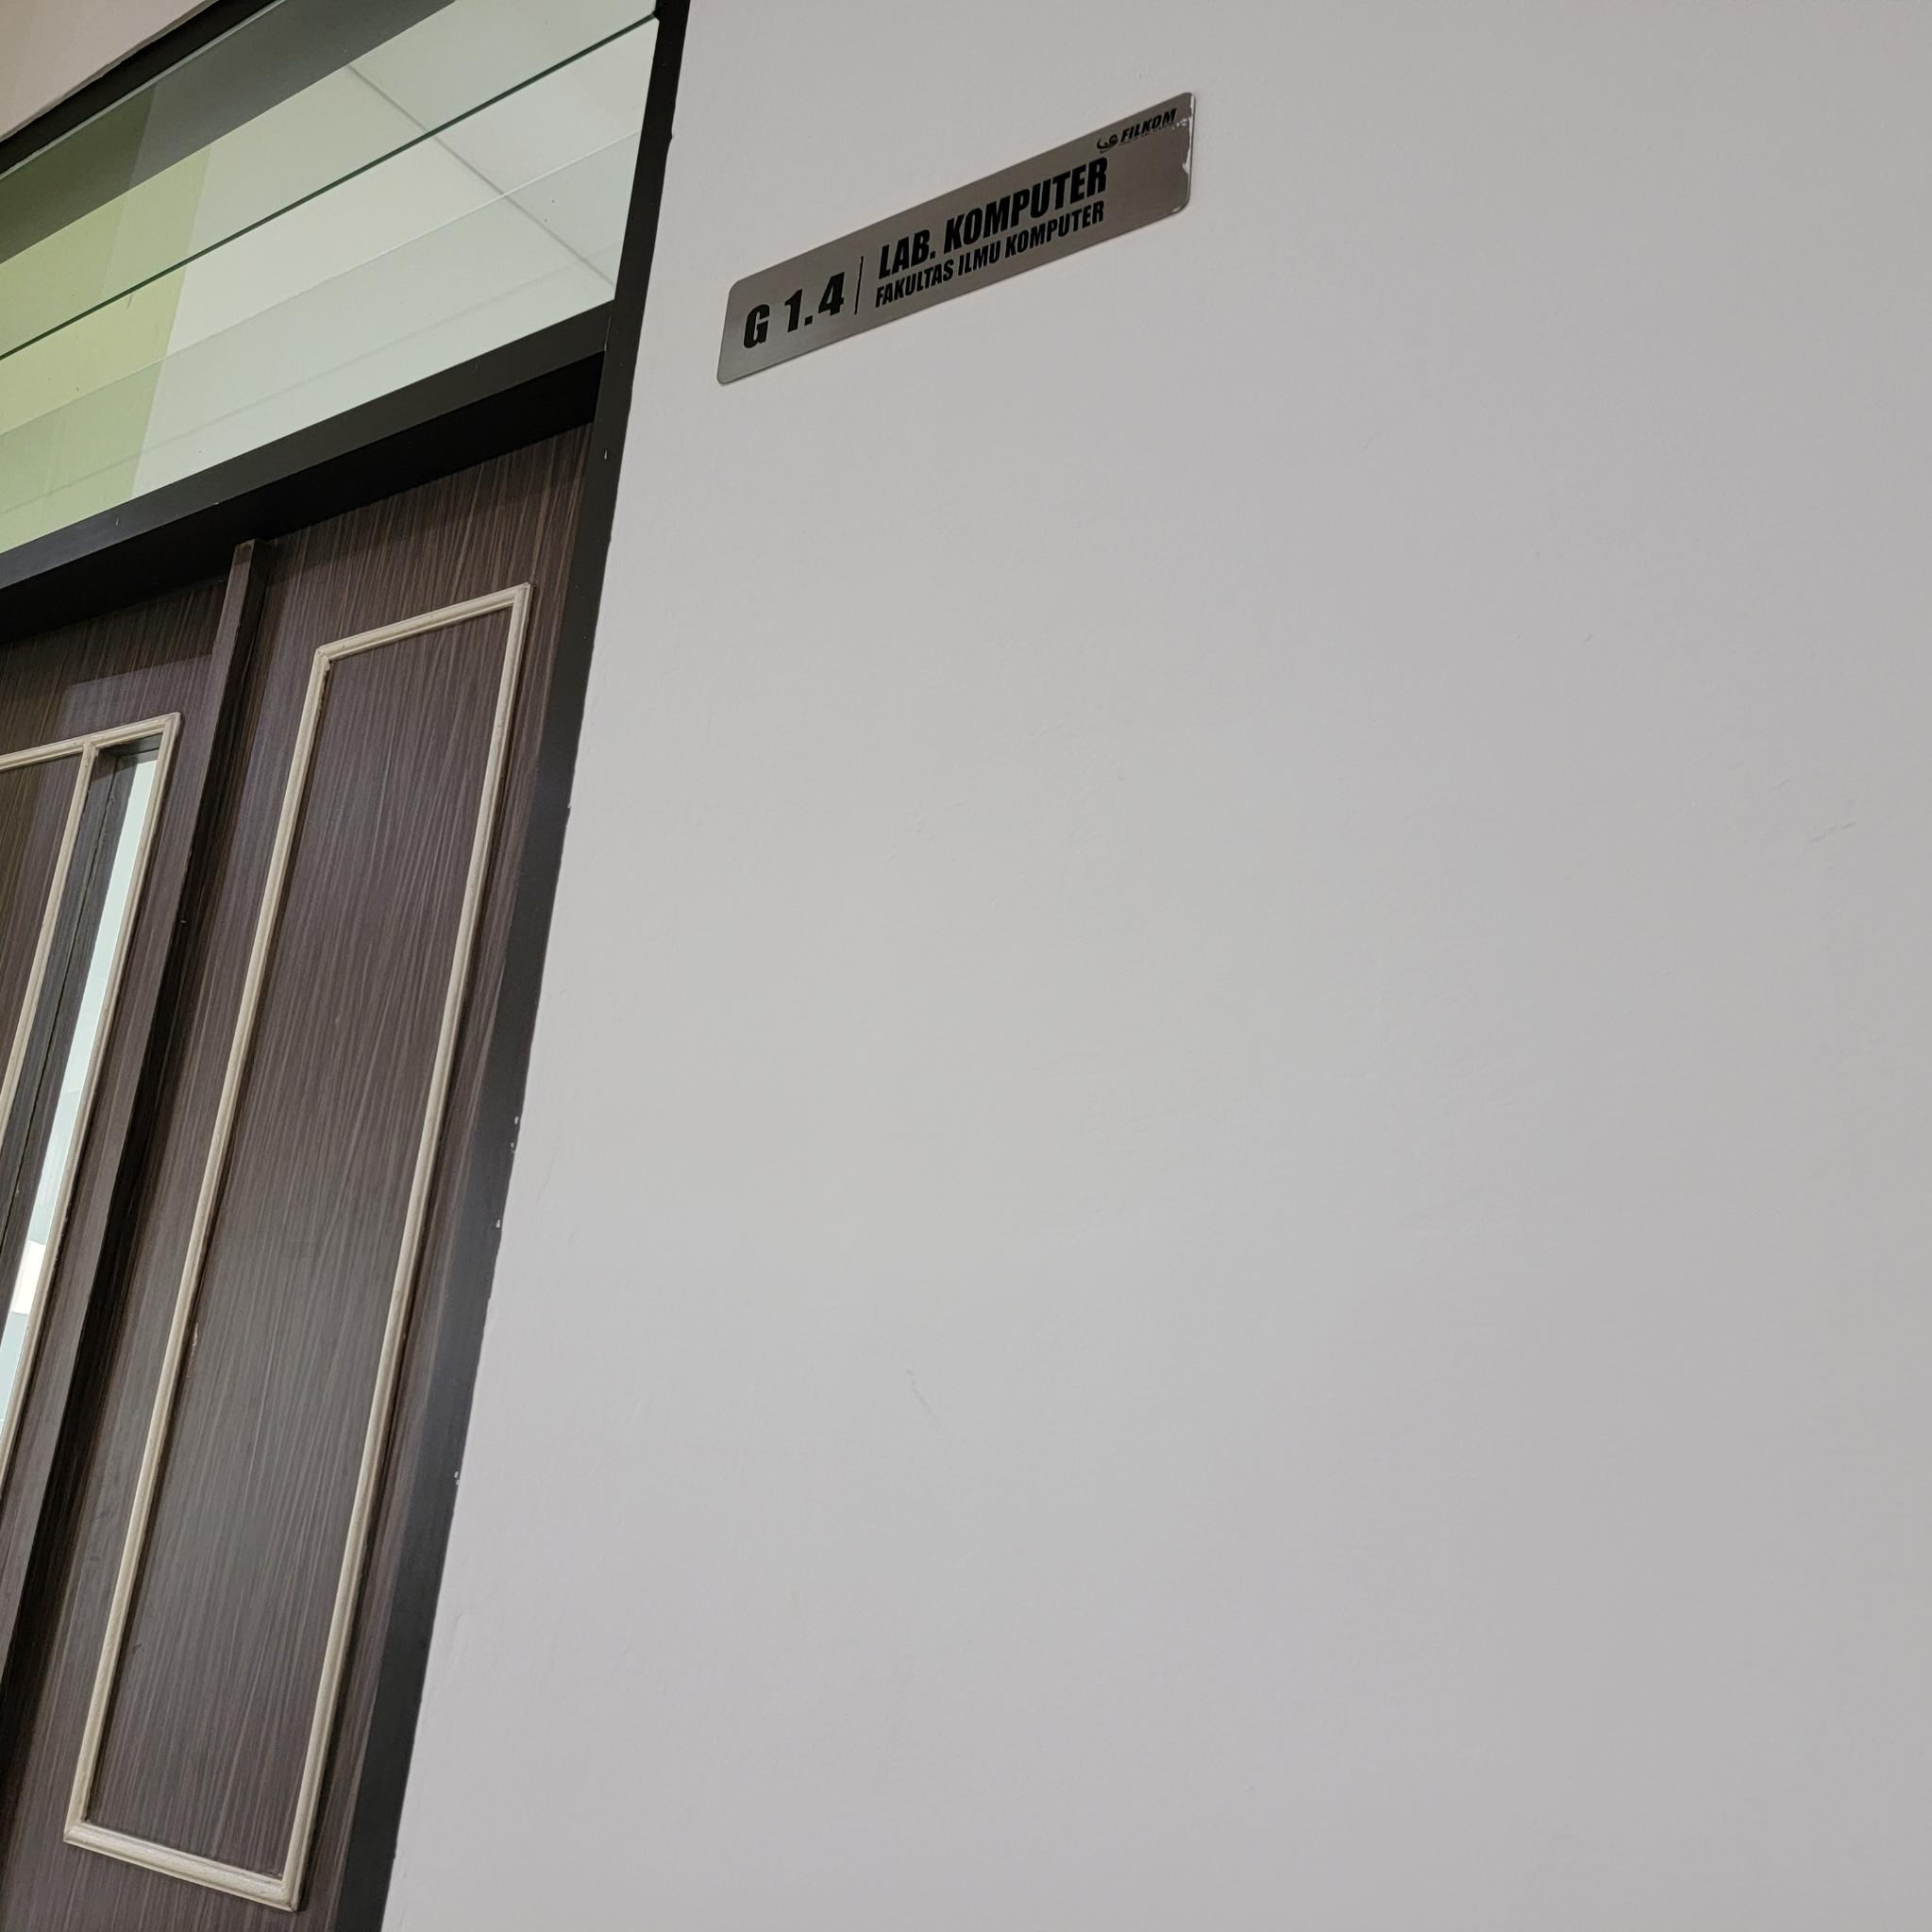plate: (717, 90, 1196, 387)
